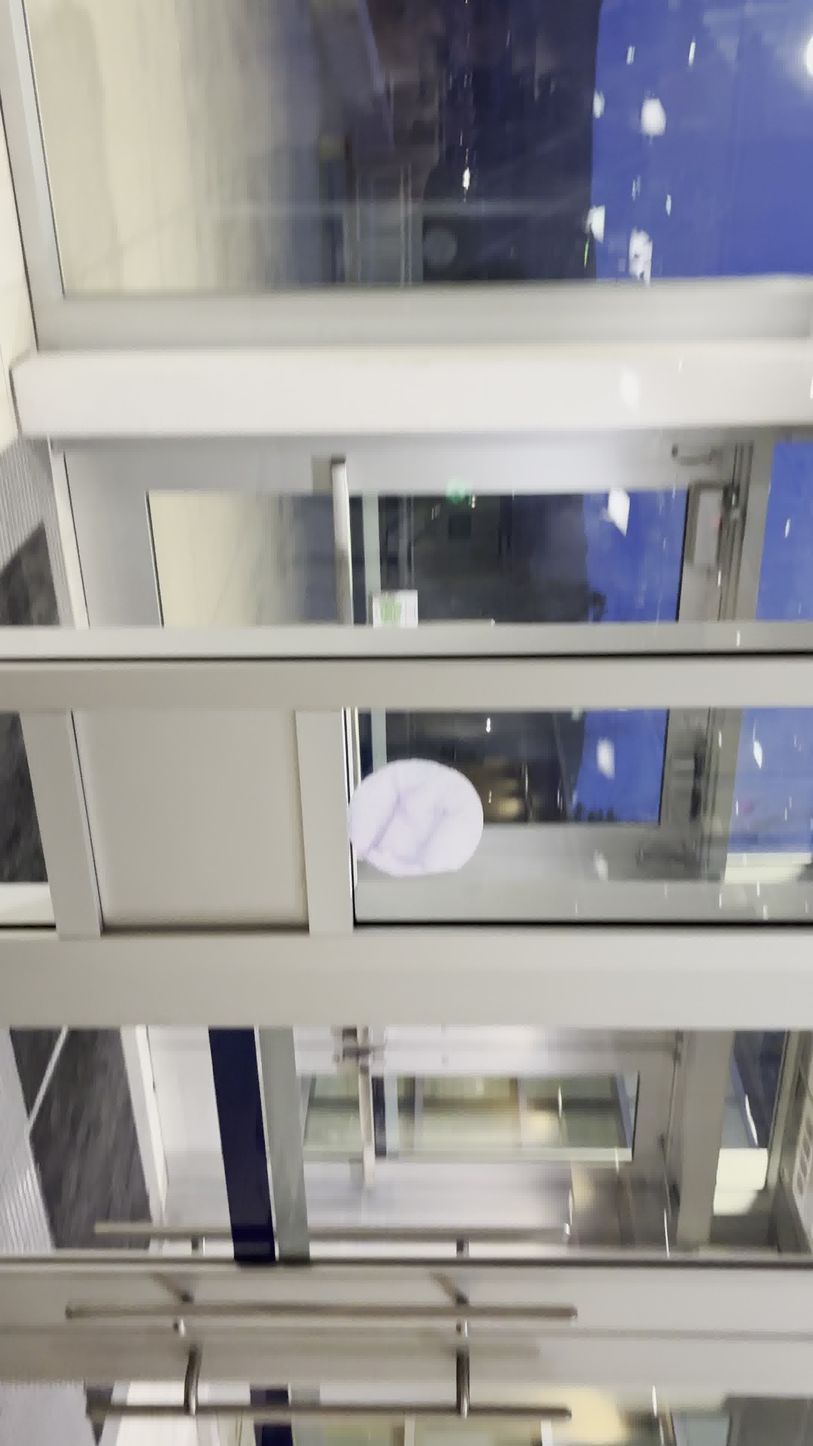Target: (344, 756, 486, 880)
